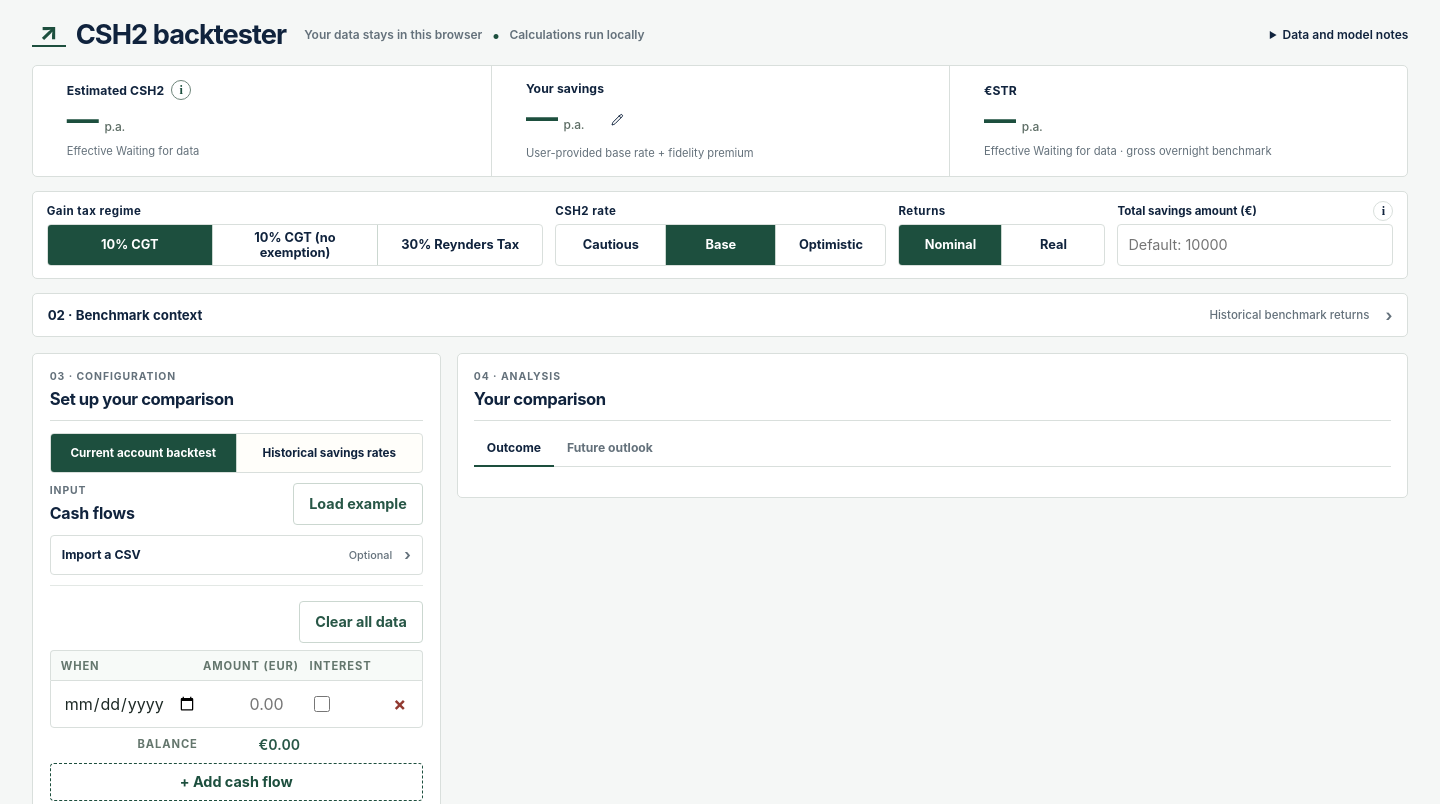
Test: CSH2 application inputs › uses signed amounts for direction and keeps interest payments on positive flows
The image size is (1440, 804).
Expected: the 4th label is shown, [314,689,330,719]
In the date field named "Date": (129, 704) [61,689,198,719], type "2026-01-02"
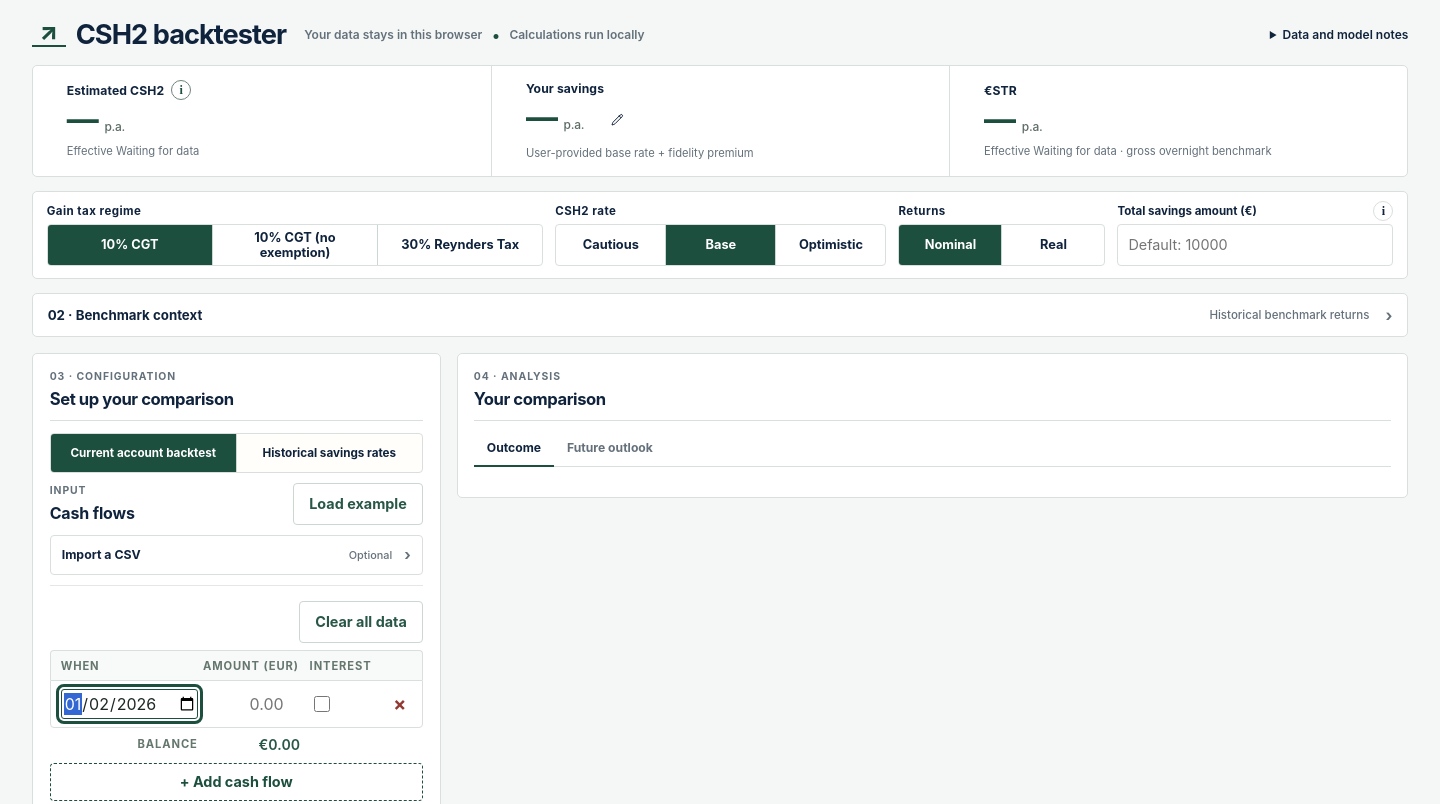
In the number field named "Net amount in euro": (254, 704) [203,689,305,719], type "50"
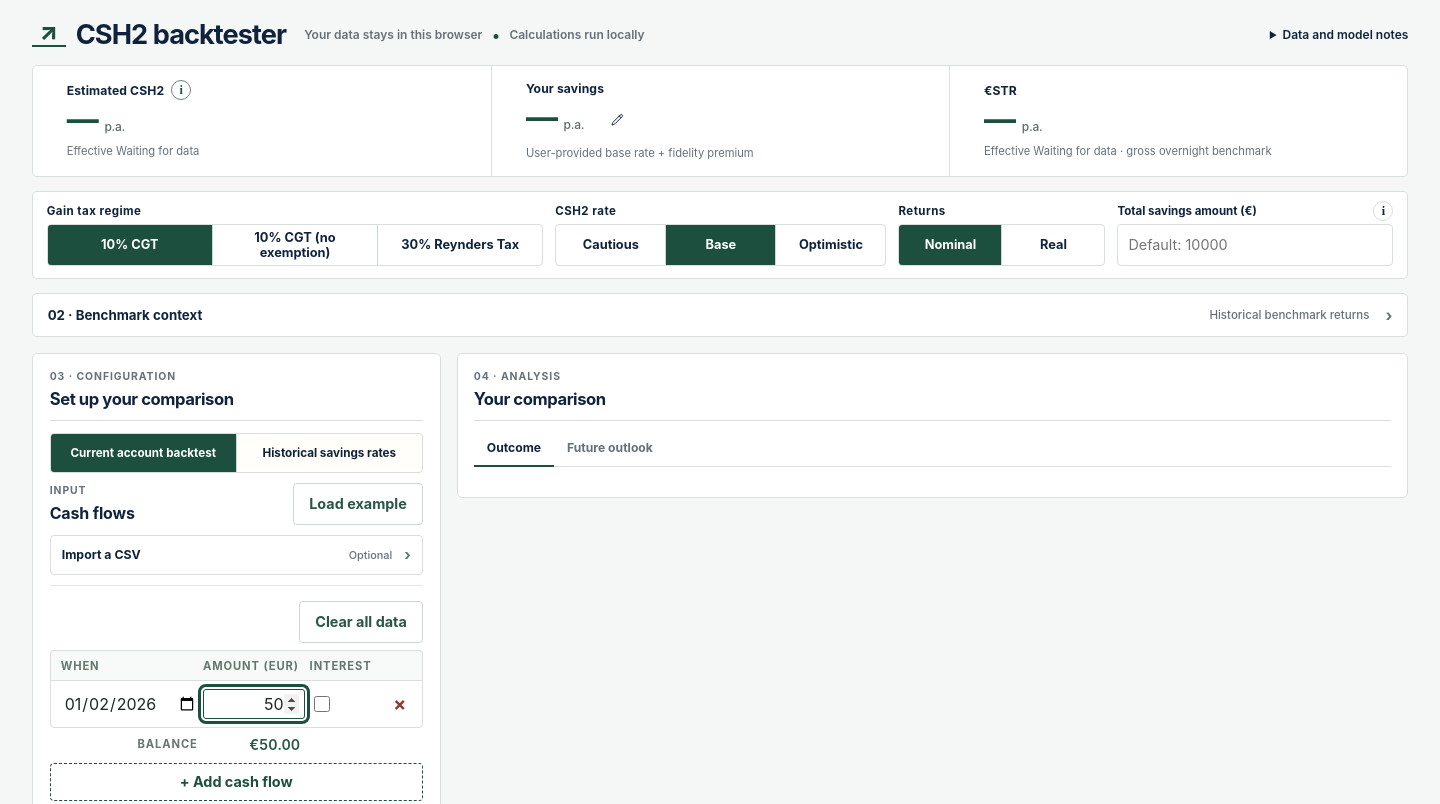
Click the checkbox named "Interest payment": (322, 704) [314,689,330,719]
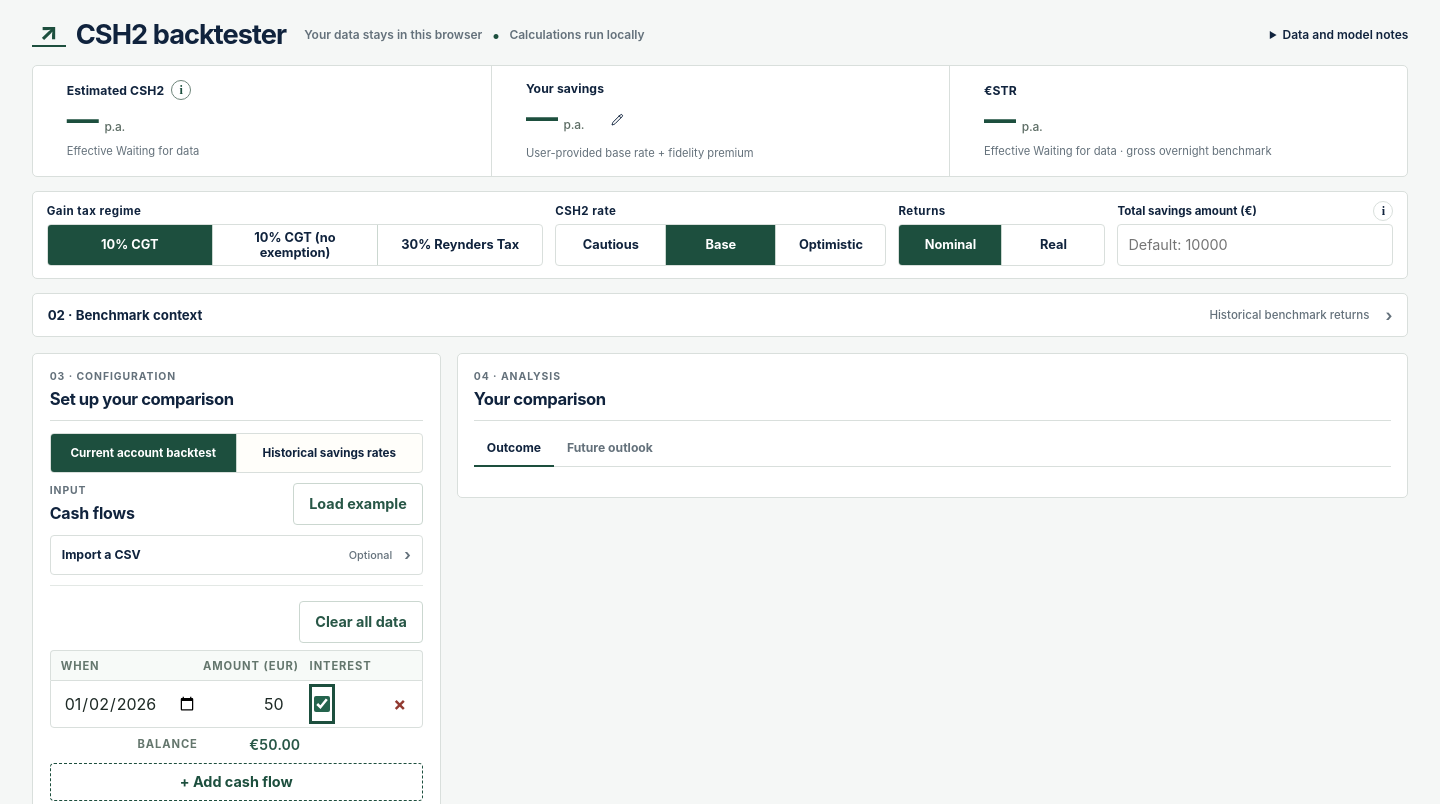
Result: the checkbox named "Interest payment" is checked at [314,689,330,719]
Replace the text in the number field named "Net amount in euro" with "-50": (254, 704) [203,689,305,719]
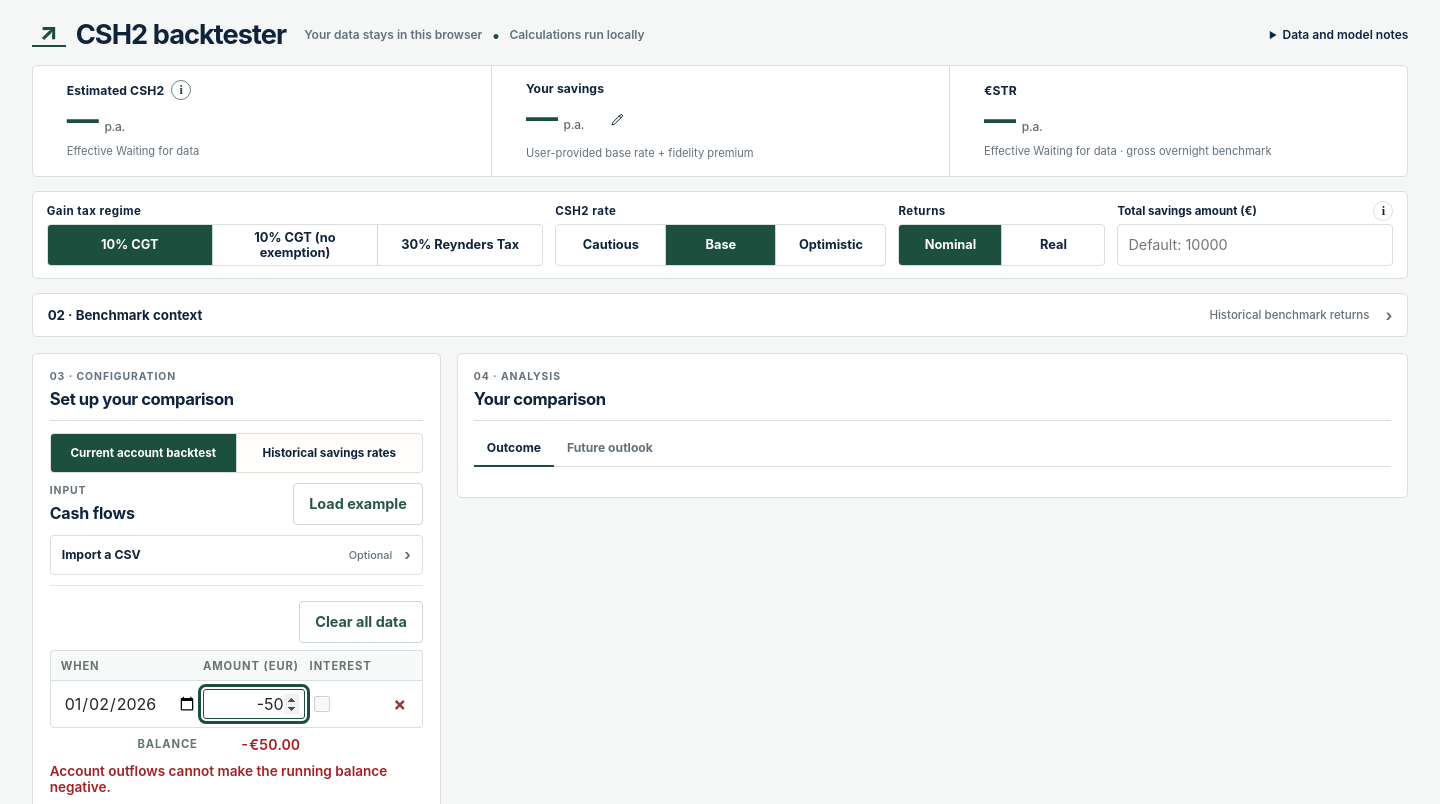
Result: the checkbox named "Interest payment" is not checked at [314,689,330,719]
Result: the checkbox named "Interest payment" is disabled at [314,689,330,719]
